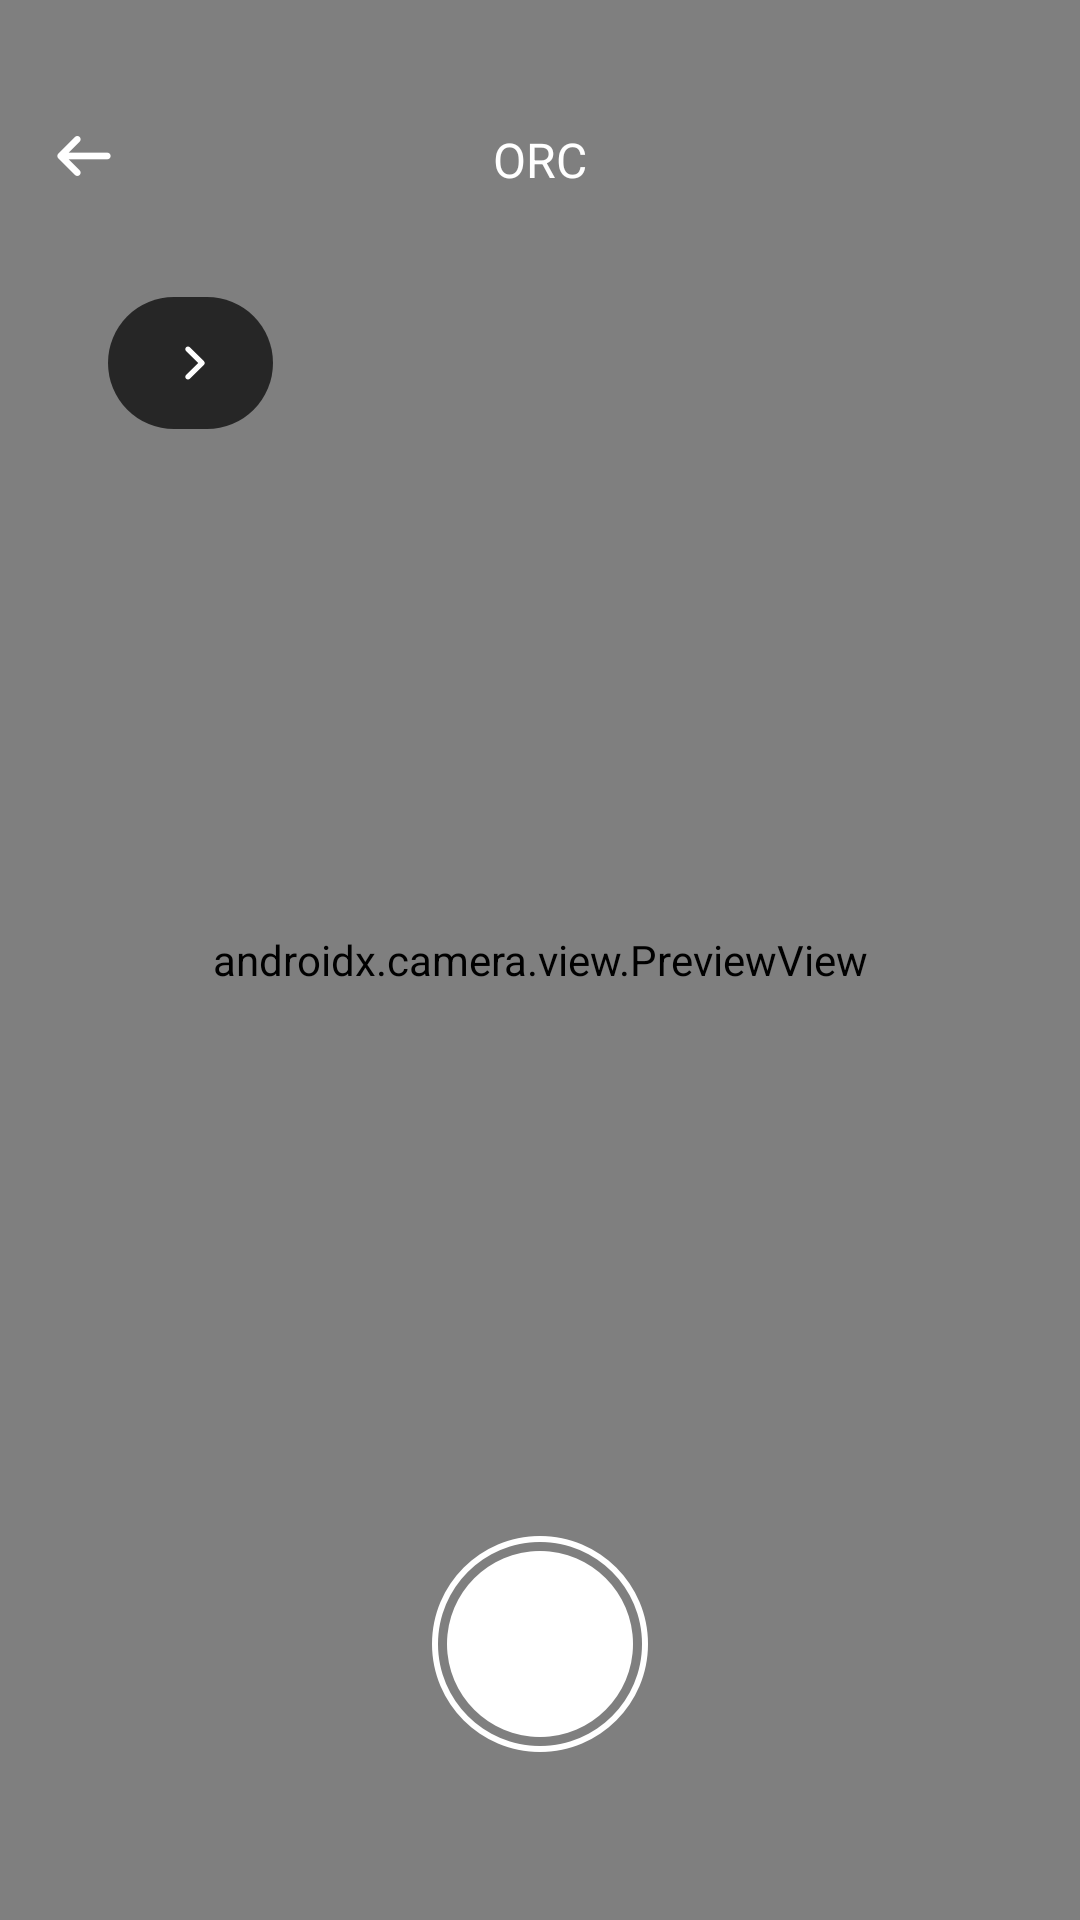

Named icons in this screenshot (1080w x 1920h) and their centers, [x,y]:
back: [84,156]
photograph: [540,1644]
